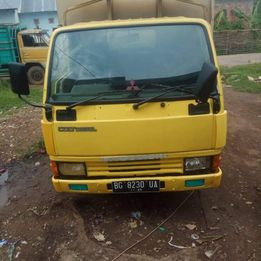plate: (111, 180, 163, 195)
